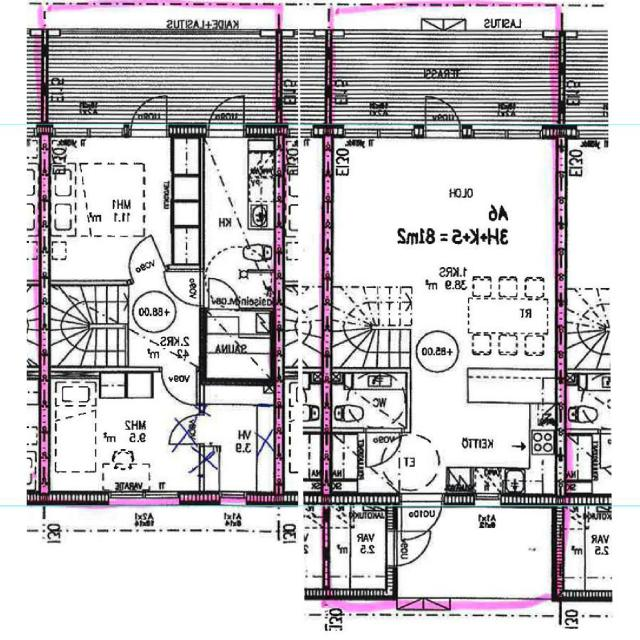door: (119, 235, 167, 283), (402, 493, 442, 546), (386, 531, 433, 566), (426, 91, 460, 138), (210, 90, 244, 137), (132, 90, 166, 137), (366, 428, 401, 467), (165, 272, 204, 306), (162, 367, 196, 405), (209, 278, 240, 311)
